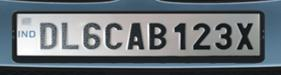1: (172, 21, 188, 49)
2: (191, 21, 211, 49)
3: (213, 21, 233, 49)
A: (125, 21, 145, 49)
B: (147, 21, 167, 50)
C: (104, 21, 124, 49)
D: (38, 21, 58, 49)
L: (59, 21, 79, 49), (81, 21, 101, 49)
X: (235, 21, 254, 49)
